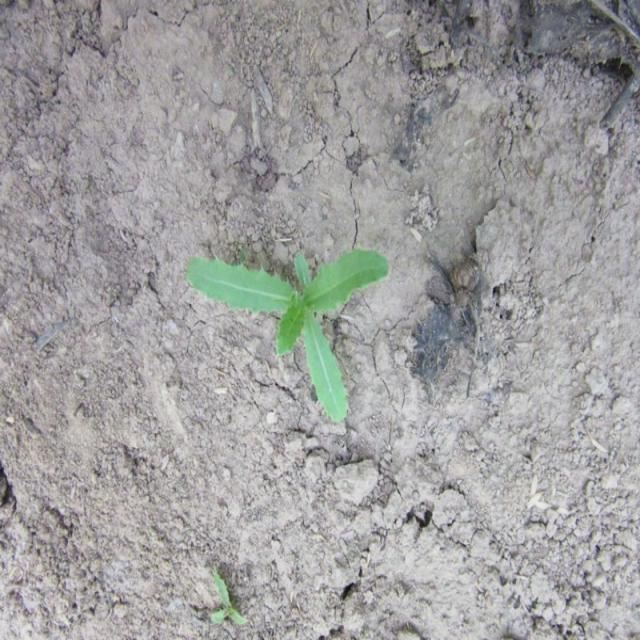cs: (180, 238, 392, 426)
